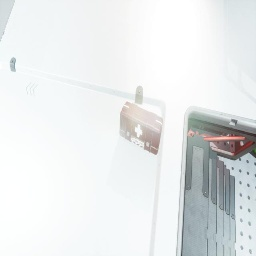0: (243, 135, 256, 154)
FirstAidBox ,: (119, 101, 163, 155)
